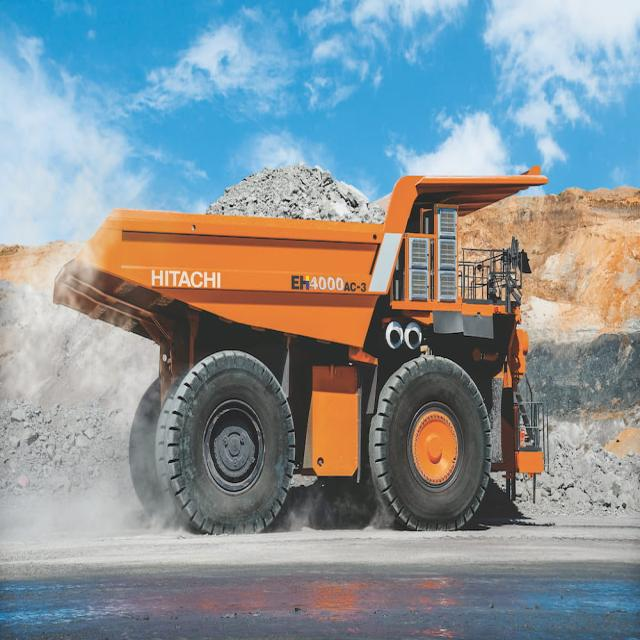dump_truck: (40, 129, 571, 548)
